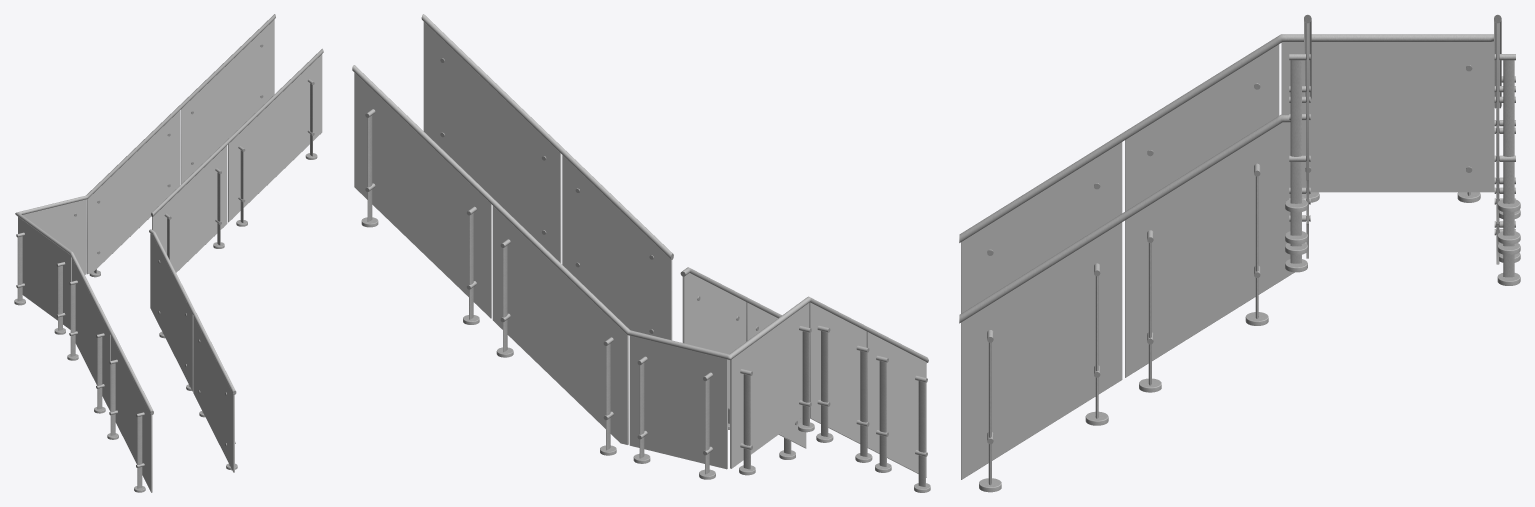
Rendered from L-Shaped_Railing_Konic.gltf.
3 views of the same model, side by side, from view 1: azimuth 30°, elevation 25°; view 2: azimuth 150°, elevation 25°; view 3: azimuth 270°, elevation 25° (orthographic). The views are drawn at different scales.
Visible parts, largest first — view 1: Casework 1 Casework 1 [8738332], Infill_Glass_Raked & Horizontal Generic [8736296], Infill_Glass_Raked & Horizontal Generic [8200579], Infill_Glass_Raked & Horizontal Generic [8199751], Infill_Glass_Raked & Horizontal Generic [8738822], Infill_Glass_Transition Generic [8202170], Infill_Glass_Raked & Horizontal Generic [8202939], Infill_Glass_Raked & Horizontal Generic [8735940], Infill_Glass_Raked & Horizontal Generic [8739593], Infill_Glass_Raked & Horizontal Generic [8737682], Object, Generic Models 11 Generic Models 11 [8762451]005 (+7 smaller); view 2: Infill_Glass_Raked & Horizontal Generic [8200579], Infill_Glass_Raked & Horizontal Generic [8736296], Casework 1 Casework 1 [8738332], Infill_Glass_Raked & Horizontal Generic [8199751], Infill_Glass_Raked & Horizontal Generic [8737682], Infill_Glass_Raked & Horizontal Generic [8738822], Infill_Glass_Raked & Horizontal Generic [8735940], Infill_Glass_Raked & Horizontal Generic [8739593], Infill_Glass_Transition Generic [8202170], Object, Generic Models 11 Generic Models 11 [8762451]005, Infill_Glass_Raked & Horizontal Generic [8202939] (+7 smaller); view 3: Infill_Glass_Raked & Horizontal Generic [8738822], Infill_Glass_Transition Generic [8202170], Infill_Glass_Raked & Horizontal Generic [8202939], Infill_Glass_Raked & Horizontal Generic [8735940], Infill_Glass_Raked & Horizontal Generic [8739593], Generic Models 1 Generic Models 1 [8568048], Generic Models 10 Generic Models 1 [8735975], Object, LS201 & LS202 - Konic Post Material LS Material [9048587]001, LS201 & LS202 - Konic Post Material LS Material [9048890]001, Infill_Glass_Raked & Horizontal Generic [8736296].
Part boxes in pixels (left/top/right/bottom): Casework 1 Casework 1 [8738332]: left=86, top=110, right=179, bottom=274; Infill_Glass_Raked & Horizontal Generic [8736296]: left=180, top=19, right=274, bottom=184; Infill_Glass_Raked & Horizontal Generic [8200579]: left=228, top=54, right=322, bottom=222; Infill_Glass_Raked & Horizontal Generic [8199751]: left=152, top=145, right=227, bottom=272; Infill_Glass_Raked & Horizontal Generic [8738822]: left=18, top=217, right=71, bottom=329; Infill_Glass_Transition Generic [8202170]: left=150, top=233, right=193, bottom=391; Infill_Glass_Raked & Horizontal Generic [8202939]: left=193, top=316, right=234, bottom=472; Infill_Glass_Raked & Horizontal Generic [8735940]: left=111, top=336, right=152, bottom=492; Infill_Glass_Raked & Horizontal Generic [8739593]: left=72, top=259, right=110, bottom=411; Infill_Glass_Raked & Horizontal Generic [8737682]: left=22, top=199, right=86, bottom=274; Object: left=15, top=14, right=275, bottom=253; Generic Models 11 Generic Models 11 [8762451]005: left=151, top=48, right=323, bottom=216; Infill_Glass_Raked & Horizontal Generic [8200579]: left=423, top=22, right=561, bottom=263; Infill_Glass_Raked & Horizontal Generic [8736296]: left=354, top=73, right=491, bottom=318; Casework 1 Casework 1 [8738332]: left=492, top=206, right=628, bottom=444; Infill_Glass_Raked & Horizontal Generic [8199751]: left=562, top=155, right=672, bottom=340; Infill_Glass_Raked & Horizontal Generic [8737682]: left=629, top=336, right=727, bottom=469; Infill_Glass_Raked & Horizontal Generic [8738822]: left=730, top=303, right=809, bottom=468; Infill_Glass_Raked & Horizontal Generic [8735940]: left=866, top=331, right=926, bottom=477; Infill_Glass_Raked & Horizontal Generic [8739593]: left=809, top=302, right=866, bottom=443; Infill_Glass_Transition Generic [8202170]: left=682, top=273, right=746, bottom=409; Object: left=352, top=65, right=808, bottom=360; Generic Models 11 Generic Models 11 [8762451]005: left=421, top=14, right=673, bottom=259; Infill_Glass_Raked & Horizontal Generic [8202939]: left=746, top=302, right=806, bottom=448; Infill_Glass_Raked & Horizontal Generic [8738822]: left=1281, top=42, right=1494, bottom=192; Infill_Glass_Transition Generic [8202170]: left=1125, top=122, right=1294, bottom=377; Infill_Glass_Raked & Horizontal Generic [8202939]: left=961, top=222, right=1122, bottom=479; Infill_Glass_Raked & Horizontal Generic [8735940]: left=961, top=142, right=1122, bottom=313; Infill_Glass_Raked & Horizontal Generic [8739593]: left=1125, top=44, right=1279, bottom=211; Generic Models 1 Generic Models 1 [8568048]: left=959, top=114, right=1290, bottom=323; Generic Models 10 Generic Models 1 [8735975]: left=959, top=34, right=1288, bottom=242; Object: left=1289, top=14, right=1501, bottom=108; LS201 & LS202 - Konic Post Material LS Material [9048587]001: left=1290, top=60, right=1301, bottom=203; LS201 & LS202 - Konic Post Material LS Material [9048890]001: left=1503, top=60, right=1514, bottom=203; Infill_Glass_Raked & Horizontal Generic [8736296]: left=1496, top=23, right=1499, bottom=223.
Bounding box in the file's own units: 3.08 × 3.51 × 2.8.
